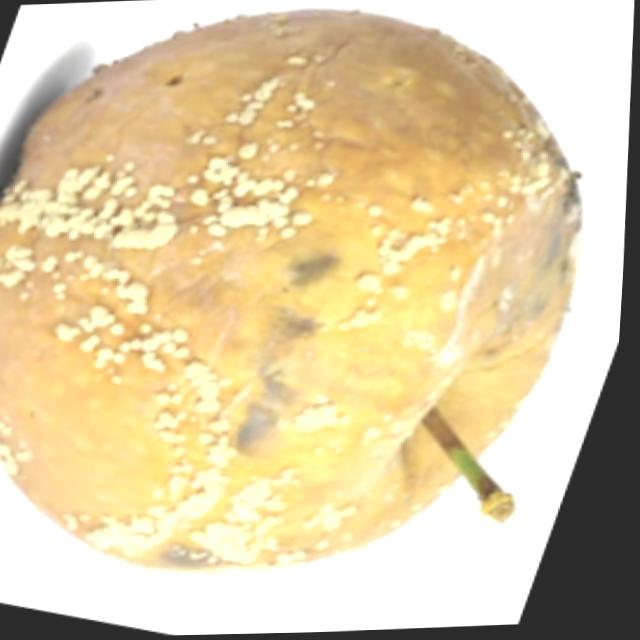organik: (0, 0, 617, 593)
